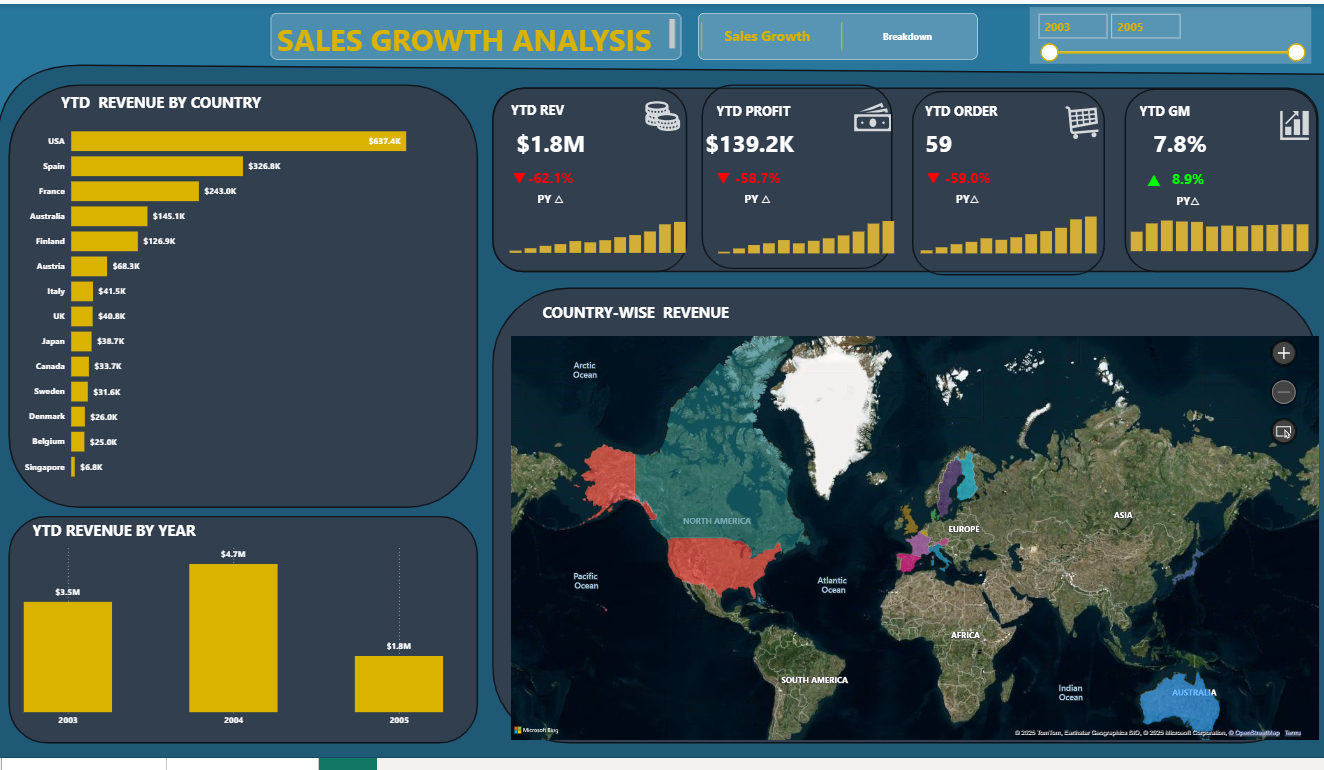

Layout of this report page (visuals, bound fields, positions):
{"tool":"powerbi","page":{"name":"Sales Growth","canvas":[1920,1080],"ordinal":0},"visuals":[{"type":"card","fields":{"Values":["Dax.Total Revenue"]},"box":[324.5,195.6,210,128.8],"z":0},{"type":"card","fields":{"Values":["Dax.YoY ORDER"]},"box":[1352.4,224.9,88.3,69.2],"z":0,"group":"g3"},{"type":"card","fields":{"Values":["Dax.YoY PROFIT"]},"box":[1052,226,88.3,69.2],"z":0,"group":"g2"},{"type":"card","fields":{"Values":["Dax.YoY GM"]},"box":[1668.2,227.7,88.3,69.2],"z":0,"group":"g4"},{"type":"card","fields":{"Values":["Dax.YTD Sale"]},"box":[718.2,133.6,140.8,131.2],"z":1000},{"type":"card","fields":{"Values":["Dax.Order Icon"]},"box":[1321.4,225.7,50.1,50.1],"z":1000,"group":"g3"},{"type":"card","fields":{"Values":["Dax.Profit Icon"]},"box":[1021,226.8,50.1,50.1],"z":1000,"group":"g2"},{"type":"card","fields":{"Values":["Dax.GM Icon"]},"box":[1637.2,228.5,50.1,50.1],"z":1000,"group":"g4"},{"type":"card","fields":{"Values":["Dax.YTD PROFIT"]},"box":[1010,145,147.5,110],"z":2000},{"type":"card","fields":{"Values":["Dax.YoY Sale"]},"box":[755.4,226.7,88.3,69.2],"z":3000,"group":"g1"},{"type":"columnChart","fields":{"Category":["Calendar.MONTH"],"Y":["Dax.YTD Sale"]},"box":[725.3,283.9,262.5,76.3],"z":3000},{"type":"donutChart","fields":{"Y":["Dax.Total Revenue"]},"box":[241,131.2,379.4,245.7],"z":4000},{"type":"textbox","box":[737.5,132.5,112.5,45],"z":5000},{"type":"textbox","box":[1030.7,136,145.5,42.9],"z":6000},{"type":"textbox","box":[1329,136,114.5,42.9],"z":7000},{"type":"textbox","box":[1636.7,136,114.5,42.9],"z":8000},{"type":"card","fields":{"Values":["Dax.YTD ORDER"]},"box":[1280,145,147.5,110],"z":9000},{"type":"card","fields":{"Values":["Dax.YTD GM"]},"box":[1615.3,145.5,147.9,109.8],"z":10000},{"type":"columnChart","fields":{"Category":["Calendar.MONTH"],"Y":["Dax.YTD PROFIT"]},"box":[1023.6,283.9,262.5,76.3],"z":11000},{"type":"columnChart","fields":{"Category":["Calendar.MONTH"],"Y":["Dax.YTD ORDER"]},"box":[1322.5,287.5,262.5,75],"z":12000},{"type":"columnChart","fields":{"Category":["Calendar.MONTH"],"Y":["Dax.YTD GM"]},"box":[1624.8,286.3,264.8,74],"z":13000},{"type":"advancedSlicerVisual","fields":{"Values":["Dim_Customer.COUNTRY"]},"box":[16.7,85.9,181.3,985.4],"z":14000},{"type":"group","id":"g1","title":"Group 1","box":[729.2,226.7,114.5,69.2],"z":15000},{"type":"group","id":"g2","title":"Group 2","box":[1021,226,119.3,69.2],"z":16000},{"type":"group","id":"g3","title":"Group 2","box":[1321.4,224.9,119.3,69.2],"z":17000},{"type":"group","id":"g4","title":"Group 2","box":[1637.2,227.7,119.3,69.2],"z":18000},{"type":"areaChart","fields":{"Y":["Dax.YTD PROFIT","Dax.YTD REVENUE"],"Category":["Calendar.MONTH"]},"box":[255.3,415.1,1460.2,288.7],"z":19000},{"type":"tableEx","fields":{"Values":["Dim_Product.PRODUCTLINE","Dax.PYTD sales","Dax.YTD REVENUE","Dax.Revenue Icon","Dax.YoY REVENUE"]},"box":[255.3,765.9,1114.2,293.5],"z":20000},{"type":"card","fields":{"Values":["Dax.Revenue Icon"]},"box":[729.2,226.7,50.1,50.1],"z":20003,"group":"g1"},{"type":"barChart","fields":{"Category":["Dim_Product.PRODUCTLINE"],"Y":["Dax.YTD PROFIT"]},"box":[1448.3,765.9,450.9,293.5],"z":21000},{"type":"advancedSlicerVisual","fields":{"Values":["Rev/Prof.Rev/Prof"]},"box":[1736.9,434.2,150.3,262.5],"z":22000},{"type":"textbox","box":[255.3,121.7,250.5,69.2],"z":23000},{"type":"textbox","box":[305.4,403.2,422.3,69.2],"z":24000},{"type":"textbox","box":[293.5,730.1,582.2,69.2],"z":25000},{"type":"textbox","box":[1467.3,742,422.3,69.2],"z":26000},{"type":"textbox","box":[397.5,12.9,588.7,66.6],"z":27000},{"type":"slicer","fields":{"Values":["Calendar.YEAR"]},"box":[1484.7,4.3,391,81.6],"z":28000},{"type":"pageNavigator","box":[1009.2,11.9,400.8,66.8],"z":29000}]}

Visuals, with their boxes on the page's 1920x1080 design canvas (x1, y1, x2, y2). These are canvas units, not pixel positions in the 1324x770 screenshot, which may show the page scaled, cropped or inside an application window:
card - Dax.Total Revenue: <bbox>324, 196, 534, 324</bbox>
card - Dax.YoY ORDER: <bbox>1352, 225, 1441, 294</bbox>
card - Dax.YoY PROFIT: <bbox>1052, 226, 1140, 295</bbox>
card - Dax.YoY GM: <bbox>1668, 228, 1756, 297</bbox>
card - Dax.YTD Sale: <bbox>718, 134, 859, 265</bbox>
card - Dax.Order Icon: <bbox>1321, 226, 1372, 276</bbox>
card - Dax.Profit Icon: <bbox>1021, 227, 1071, 277</bbox>
card - Dax.GM Icon: <bbox>1637, 228, 1687, 279</bbox>
card - Dax.YTD PROFIT: <bbox>1010, 145, 1158, 255</bbox>
card - Dax.YoY Sale: <bbox>755, 227, 844, 296</bbox>
columnChart - Calendar.MONTH x Dax.YTD Sale: <bbox>725, 284, 988, 360</bbox>
donutChart - Dax.Total Revenue: <bbox>241, 131, 620, 377</bbox>
textbox: <bbox>738, 132, 850, 178</bbox>
textbox: <bbox>1031, 136, 1176, 179</bbox>
textbox: <bbox>1329, 136, 1444, 179</bbox>
textbox: <bbox>1637, 136, 1751, 179</bbox>
card - Dax.YTD ORDER: <bbox>1280, 145, 1428, 255</bbox>
card - Dax.YTD GM: <bbox>1615, 146, 1763, 255</bbox>
columnChart - Calendar.MONTH x Dax.YTD PROFIT: <bbox>1024, 284, 1286, 360</bbox>
columnChart - Calendar.MONTH x Dax.YTD ORDER: <bbox>1322, 288, 1585, 362</bbox>
columnChart - Calendar.MONTH x Dax.YTD GM: <bbox>1625, 286, 1890, 360</bbox>
advancedSlicerVisual - Dim_Customer.COUNTRY: <bbox>17, 86, 198, 1071</bbox>
"Group 1" group: <bbox>729, 227, 844, 296</bbox>
"Group 2" group: <bbox>1021, 226, 1140, 295</bbox>
"Group 2" group: <bbox>1321, 225, 1441, 294</bbox>
"Group 2" group: <bbox>1637, 228, 1756, 297</bbox>
areaChart - Dax.YTD PROFIT x Dax.YTD REVENUE: <bbox>255, 415, 1716, 704</bbox>
tableEx - Dim_Product.PRODUCTLINE x Dax.PYTD sales: <bbox>255, 766, 1370, 1059</bbox>
card - Dax.Revenue Icon: <bbox>729, 227, 779, 277</bbox>
barChart - Dim_Product.PRODUCTLINE x Dax.YTD PROFIT: <bbox>1448, 766, 1899, 1059</bbox>
advancedSlicerVisual - Rev/Prof.Rev/Prof: <bbox>1737, 434, 1887, 697</bbox>
textbox: <bbox>255, 122, 506, 191</bbox>
textbox: <bbox>305, 403, 728, 472</bbox>
textbox: <bbox>294, 730, 876, 799</bbox>
textbox: <bbox>1467, 742, 1890, 811</bbox>
textbox: <bbox>398, 13, 986, 80</bbox>
slicer - Calendar.YEAR: <bbox>1485, 4, 1876, 86</bbox>
pageNavigator: <bbox>1009, 12, 1410, 79</bbox>
